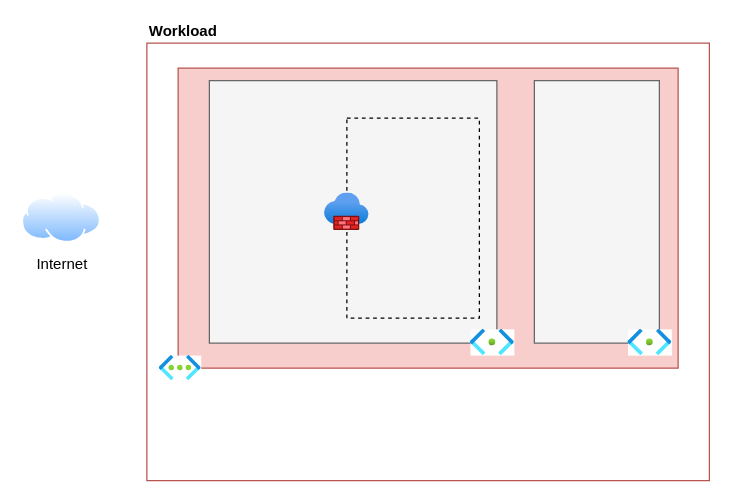
This 731x503 diagram has some shape labels left out. Each missing label, with the box of its shape:
Subnet 1: (208, 79, 497, 343)
Subnet 2: (533, 79, 659, 343)
